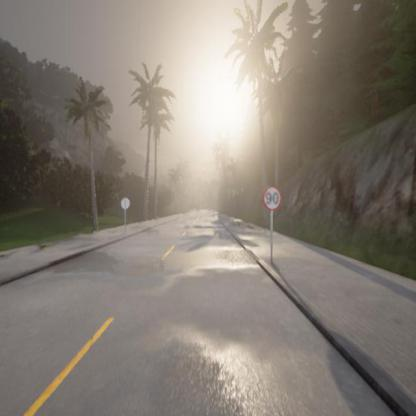traffic_sign_90: (264, 186, 281, 211)
